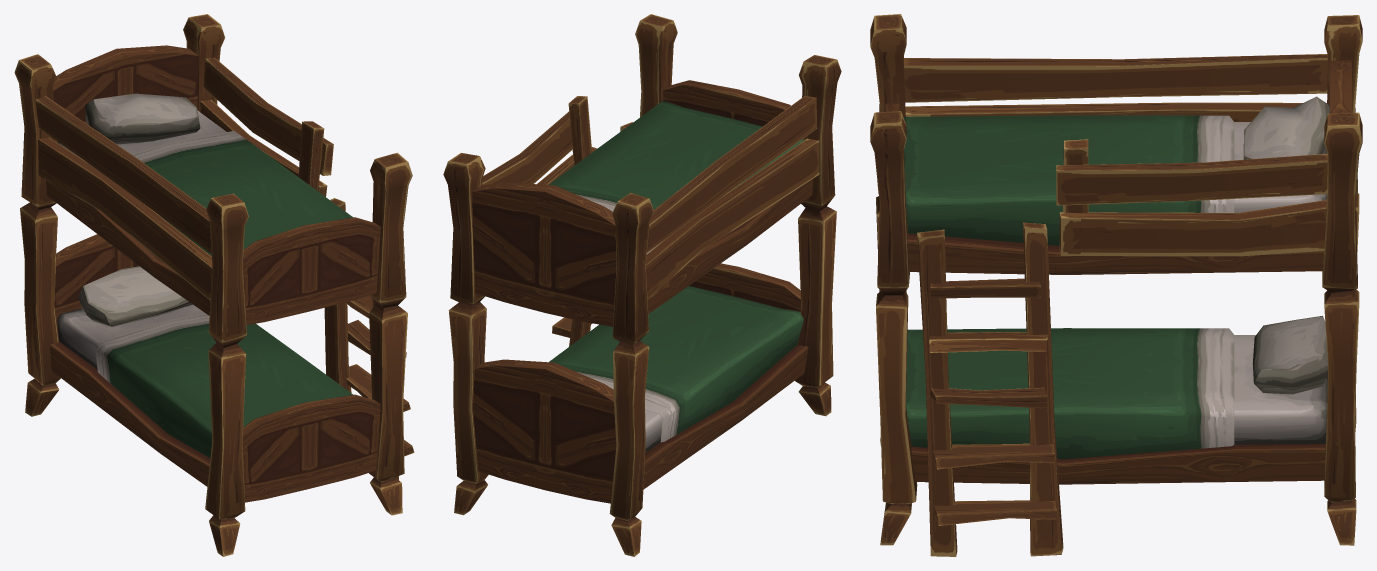
The model's file is SM_PROP_bed_interior_04.fbx.
3 renders of one model, left to right at view 1: azimuth 30°, elevation 25°; view 2: azimuth 150°, elevation 25°; view 3: azimuth 270°, elevation 25°, orthographic. The views are drawn at different scales.
Visible parts, largest first — view 1: SM_PROP_bed_interior_04; view 2: SM_PROP_bed_interior_04; view 3: SM_PROP_bed_interior_04.
Boxes of the visible parts, x1,y1,x2,y2 form: SM_PROP_bed_interior_04: [14, 14, 414, 556]; SM_PROP_bed_interior_04: [443, 14, 841, 556]; SM_PROP_bed_interior_04: [870, 14, 1362, 556].
Size of the model in its own units: 150 by 227 by 238.
